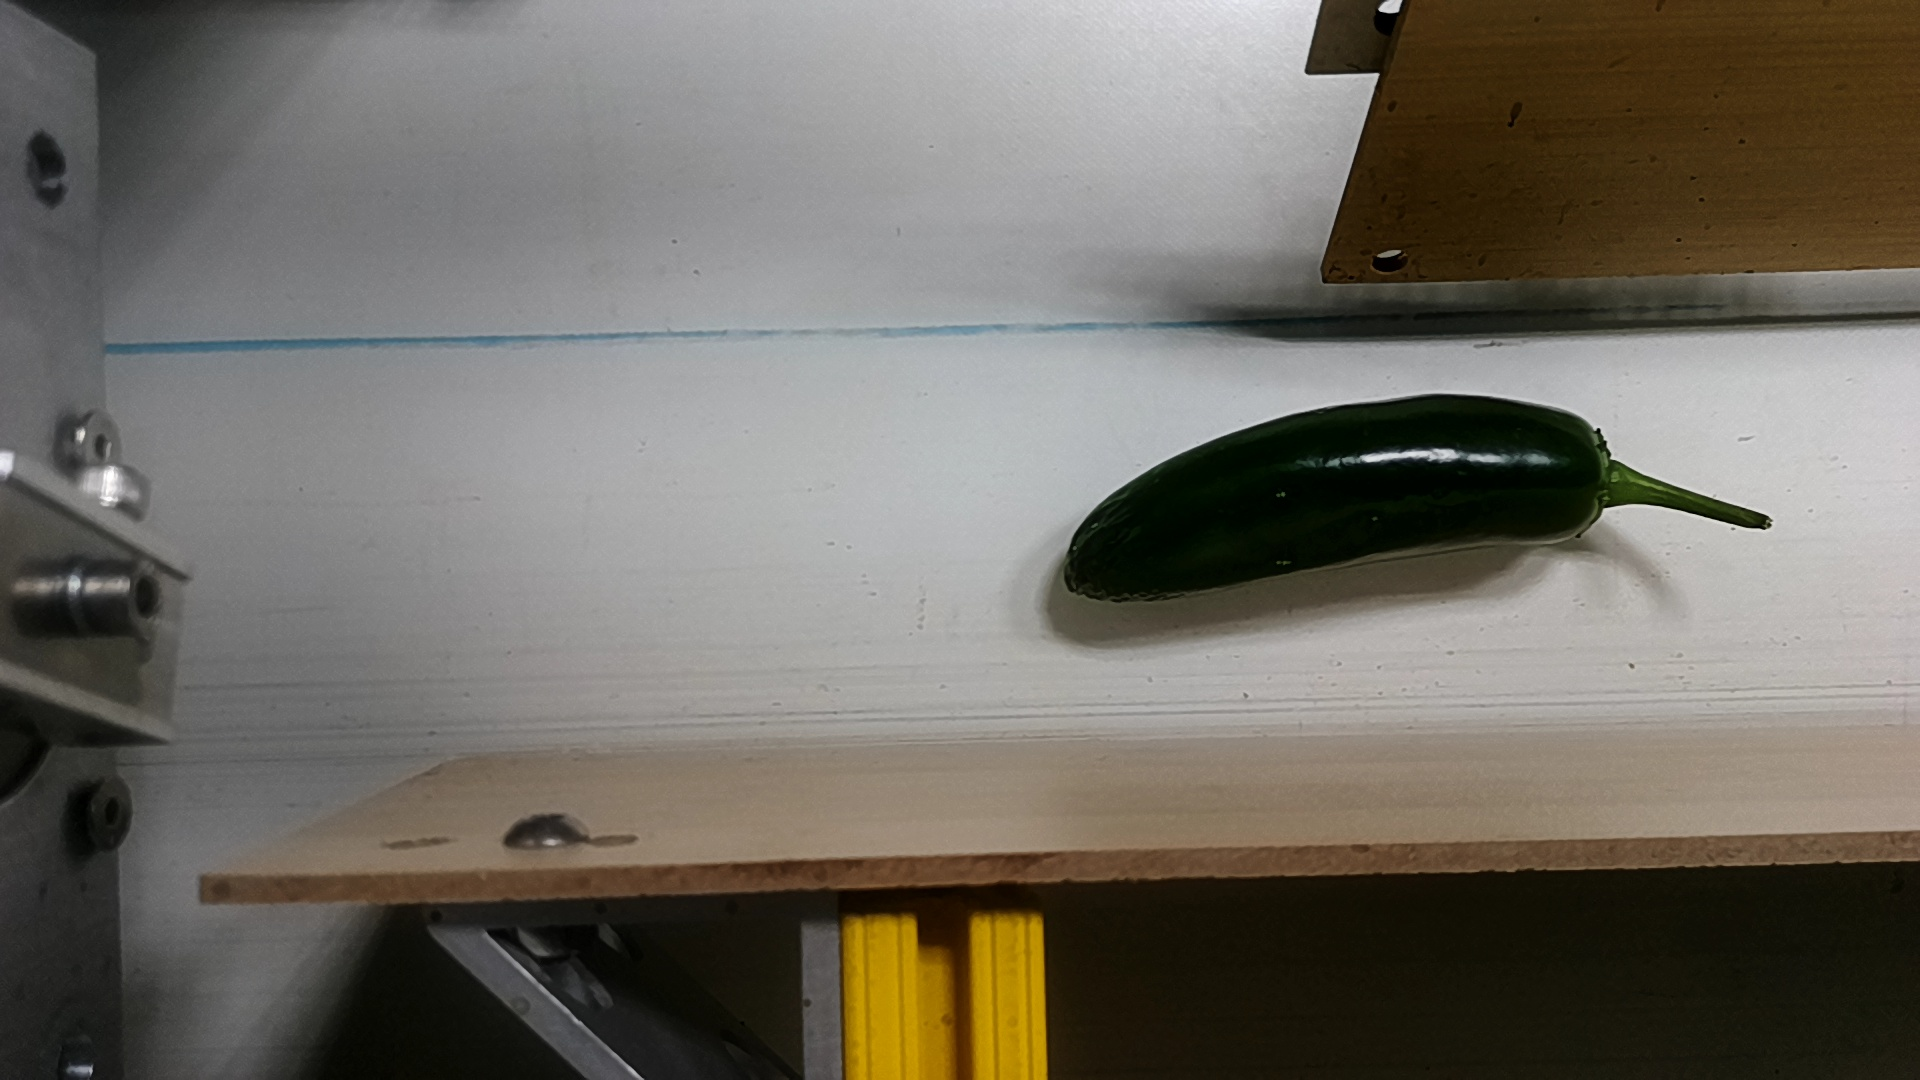Cut Point: (1542, 401, 1642, 553)
